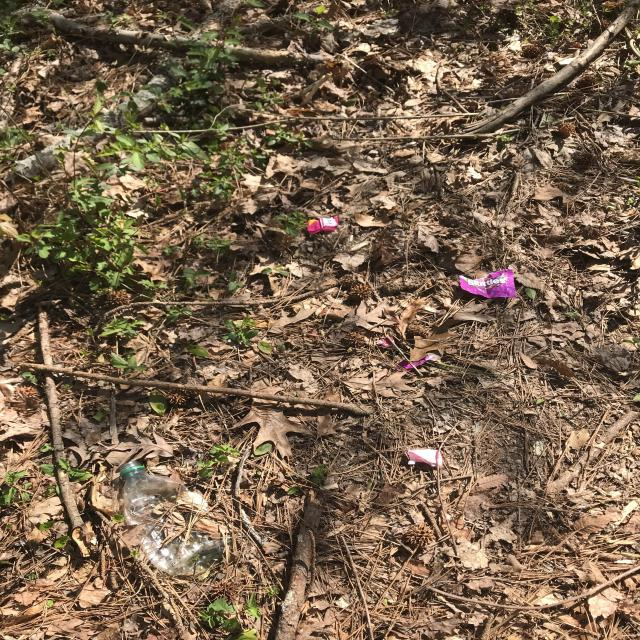litter: (117, 460, 234, 576), (456, 266, 519, 301), (393, 348, 439, 374), (306, 213, 345, 238)
